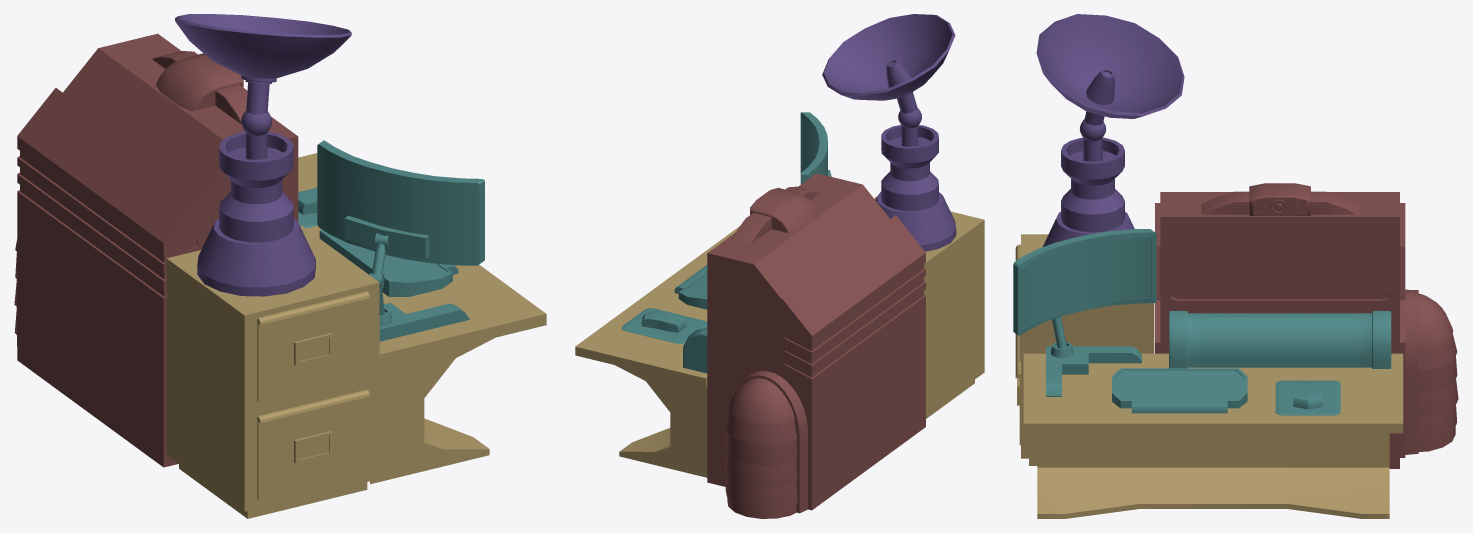
Rendered from Fbx_Hero_CommunicationTerminal V2.fbx.
The picture shows the model from 3 angles, left to right: view 1: azimuth 30°, elevation 25°; view 2: azimuth 150°, elevation 25°; view 3: azimuth 270°, elevation 25°; orthographic projection. The views are drawn at different scales.
Parts seen in each view (by area): view 1: pCube7, pCube4, pCube2, Large_Screen, pCube6, pCylinder4, pCylinder2, pCylinder9, pCube10, Cam_Base, pCube18, pCube5 (+7 smaller); view 2: pCube7, Large_Screen, pCube2, pCube4, pSphere2, pCylinder4, pCylinder2, pCylinder9, Cam_Base, pSphere3, pCube6, pCube11 (+5 smaller); view 3: pCube2, Large_Screen, pCylinder4, pCube6, pCube17, pCube4, pCube9, pCube10, pSphere2, pCylinder2, pSphere3, pCube5 (+8 smaller).
Boxes of the visible parts, left/top/right/bottom form: pCube7: left=17, top=88, right=219, bottom=467; pCube4: left=166, top=225, right=379, bottom=518; pCube2: left=298, top=153, right=546, bottom=484; Large_Screen: left=63, top=33, right=298, bottom=222; pCube6: left=317, top=140, right=484, bottom=265; pCylinder4: left=175, top=14, right=351, bottom=83; pCylinder2: left=219, top=131, right=293, bottom=242; pCylinder9: left=197, top=217, right=315, bottom=296; pCube10: left=319, top=229, right=458, bottom=296; Cam_Base: left=156, top=53, right=243, bottom=111; pCube18: left=344, top=215, right=429, bottom=258; pCube5: left=379, top=302, right=469, bottom=341; pCube7: left=725, top=215, right=925, bottom=510; Large_Screen: left=707, top=173, right=889, bottom=486; pCube2: left=575, top=226, right=739, bottom=477; pCube4: left=874, top=196, right=984, bottom=418; pSphere2: left=725, top=378, right=797, bottom=518; pCylinder4: left=822, top=14, right=955, bottom=100; pCylinder2: left=881, top=125, right=938, bottom=210; pCylinder9: left=875, top=191, right=956, bottom=251; Cam_Base: left=750, top=188, right=817, bottom=233; pSphere3: left=727, top=371, right=807, bottom=513; pCube6: left=800, top=112, right=827, bottom=184; pCube11: left=621, top=308, right=707, bottom=343; pCube2: left=1023, top=353, right=1403, bottom=518; Large_Screen: left=1160, top=192, right=1399, bottom=468; pCylinder4: left=1036, top=14, right=1184, bottom=118; pCube6: left=1013, top=229, right=1156, bottom=335; pCube17: left=1204, top=318, right=1356, bottom=360; pCube4: left=1019, top=234, right=1154, bottom=465; pCube9: left=1169, top=311, right=1391, bottom=368; pCube10: left=1112, top=368, right=1247, bottom=413; pSphere2: left=1418, top=293, right=1458, bottom=451; pCylinder2: left=1061, top=137, right=1124, bottom=232; pSphere3: left=1405, top=289, right=1418, bottom=454; pCube5: left=1046, top=346, right=1141, bottom=396.
Size of the model in its own units: 284 by 417 by 418.
